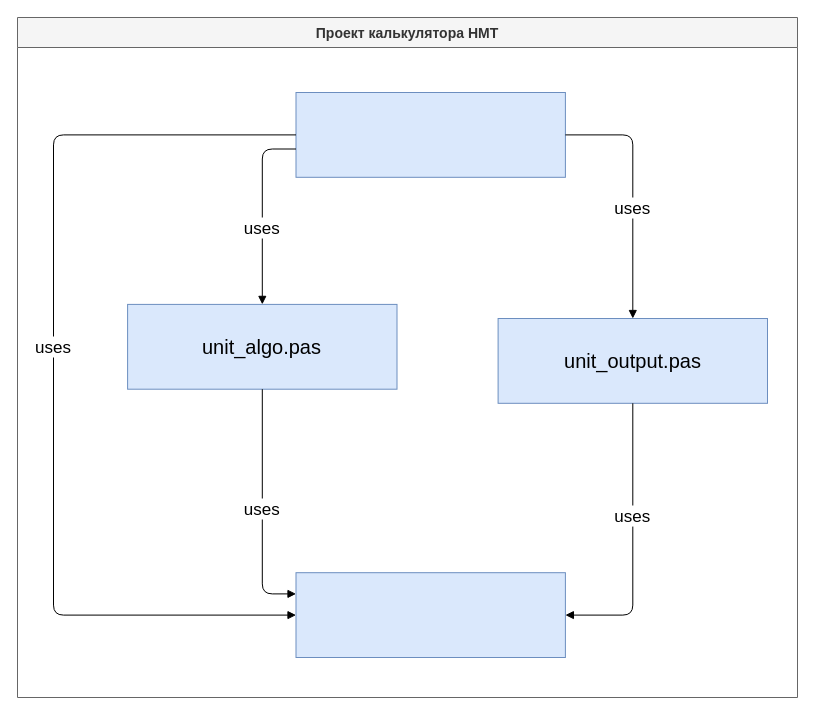
The diagram is 815 pixels wide and 715 high, and some of its shapes have lost their labels. The centre of each missing label's shape, as x and y in pixels:
main.pas: (430,134)
unit_data.pas: (430,615)
